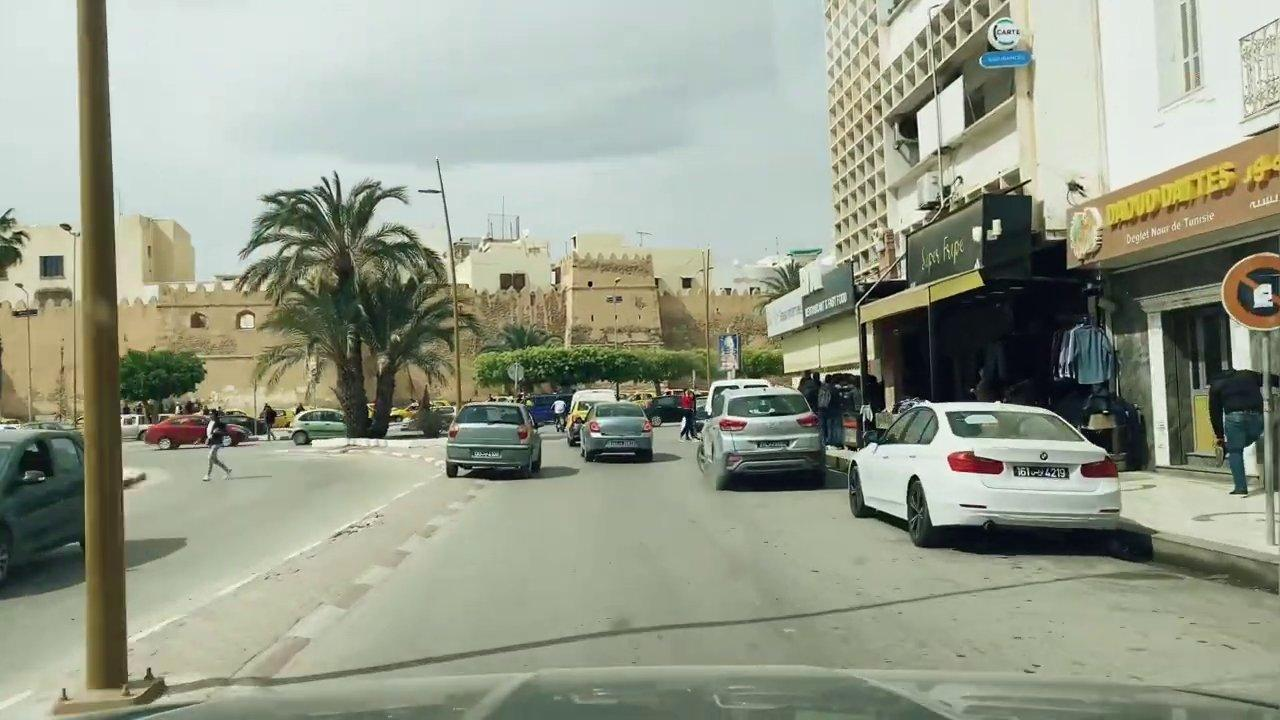no parking: (1218, 243, 1280, 334)
